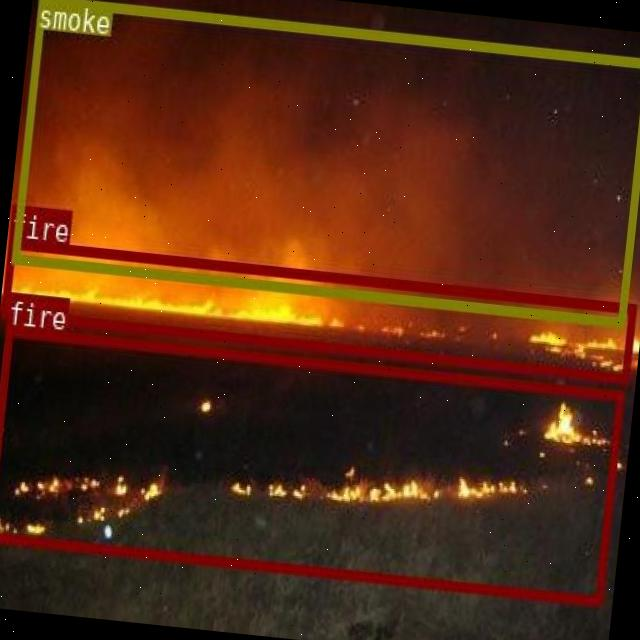fire: (0, 324, 622, 604), (0, 238, 634, 381)
smoke: (9, 0, 640, 324)
